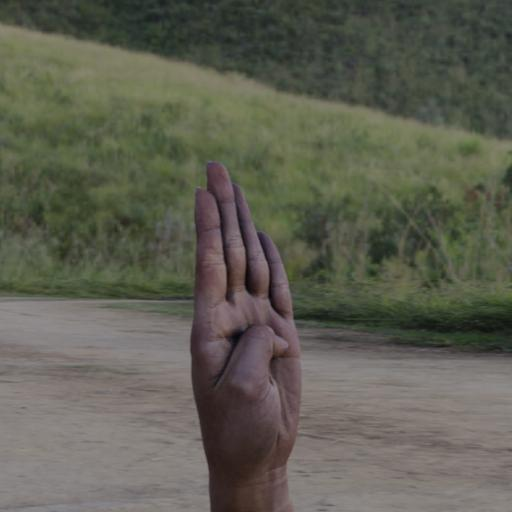B: (163, 144, 326, 512)
